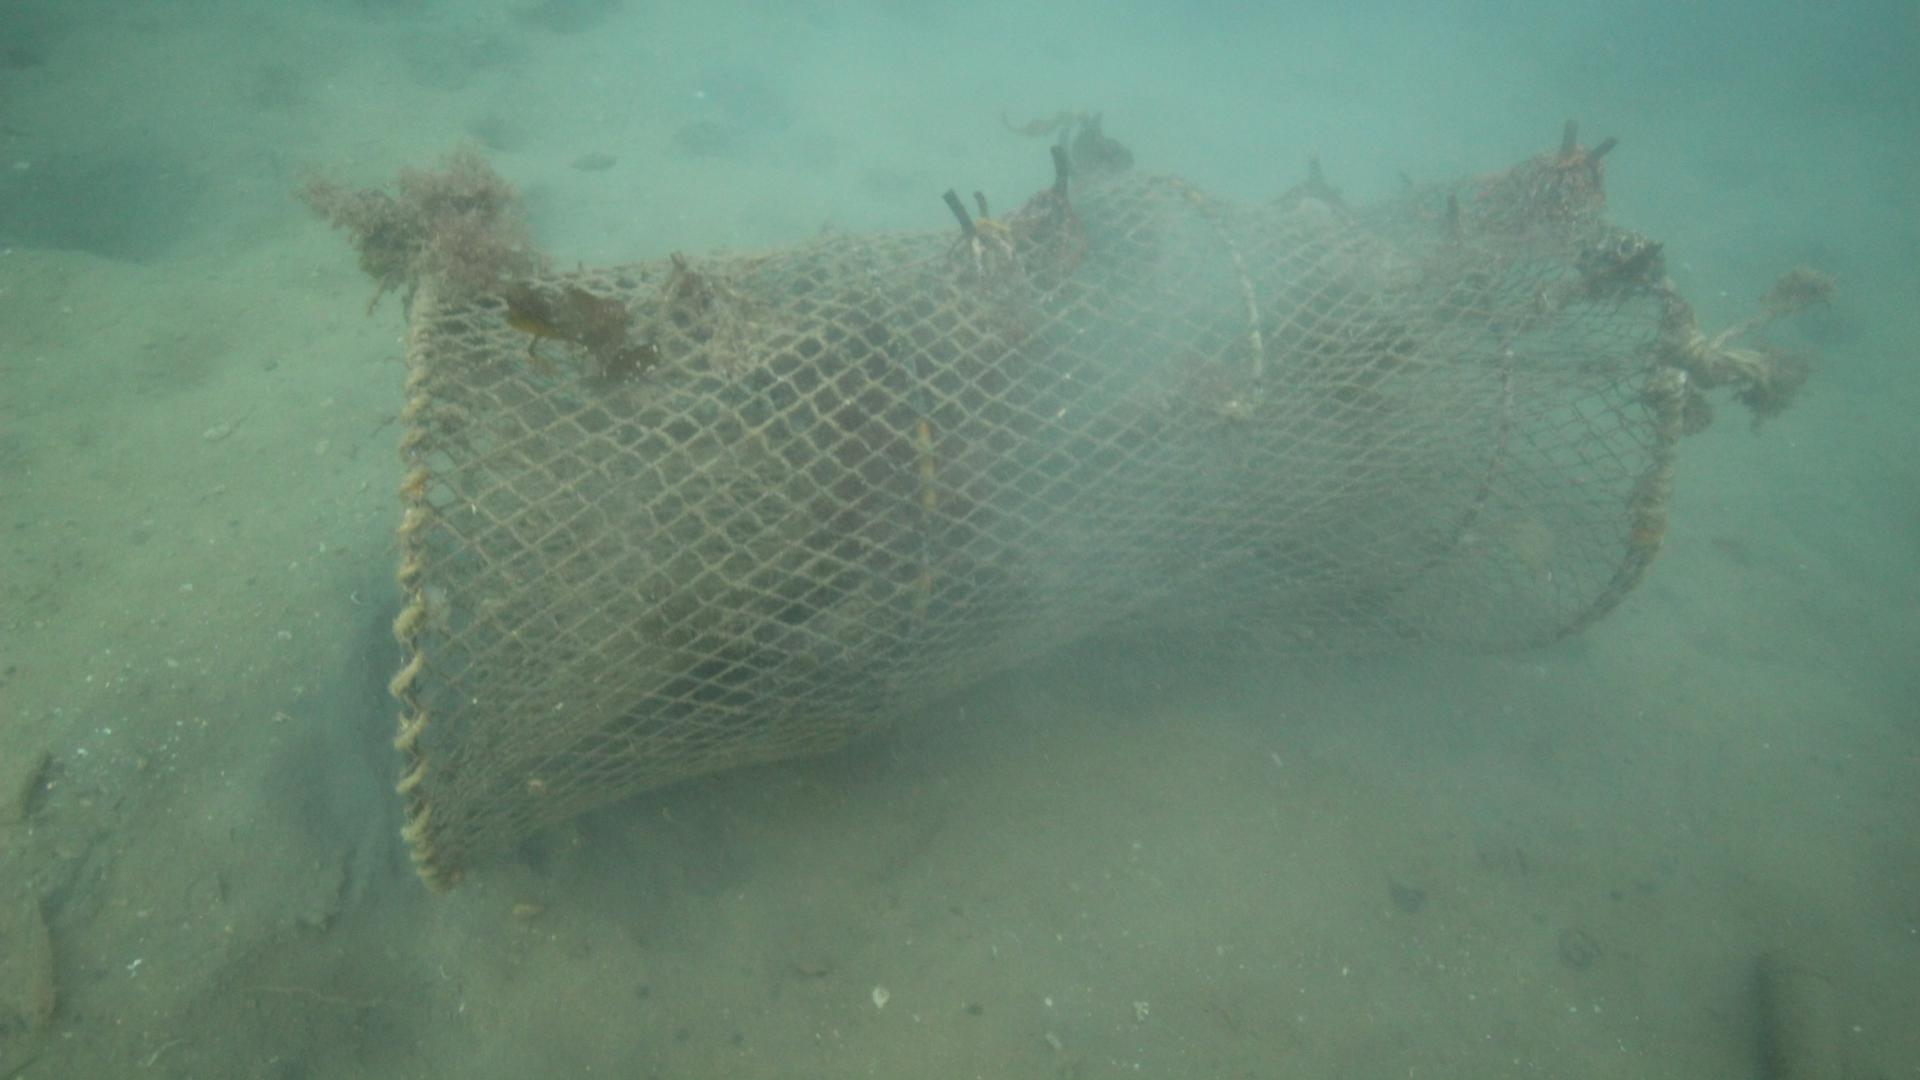spring fish trap: (385, 117, 1687, 893)
